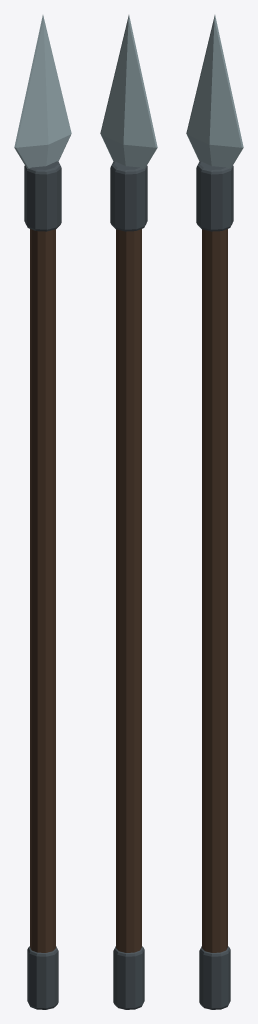
The model's file is guard_spear.glb.
The picture shows the model from 3 angles, left to right: view 1: azimuth 30°, elevation 25°; view 2: azimuth 150°, elevation 25°; view 3: azimuth 330°, elevation 25°; orthographic projection.
Parts seen in each view (by area): view 1: guard_spear__structure, guard_spear__finish; view 2: guard_spear__structure, guard_spear__finish; view 3: guard_spear__structure, guard_spear__finish.
Part boxes in pixels (<box>): guard_spear__structure: <box>30,229,55,952</box>; guard_spear__finish: <box>14,15,71,1009</box>; guard_spear__structure: <box>116,229,141,952</box>; guard_spear__finish: <box>100,15,157,1009</box>; guard_spear__structure: <box>202,229,227,952</box>; guard_spear__finish: <box>186,15,243,1009</box>.
Bounding box in the file's own units: 0.1564 × 2.58 × 0.0837.
